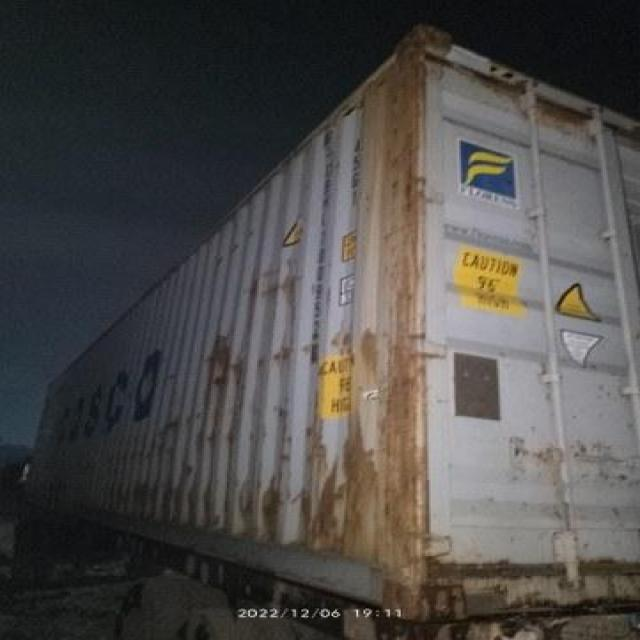Rust: (353, 26, 455, 619), (311, 447, 362, 562), (238, 480, 281, 542), (209, 341, 241, 404)
